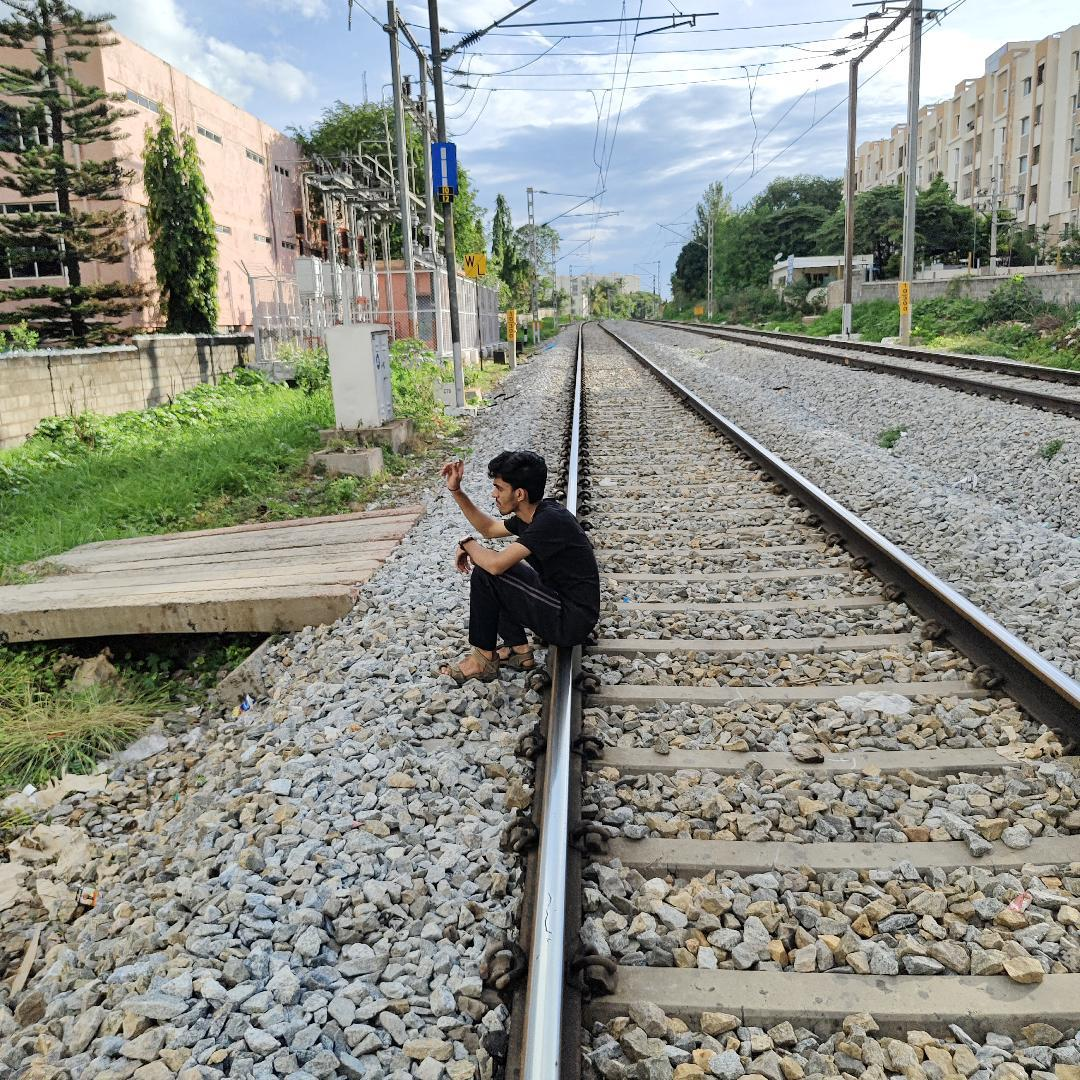sitting: (438, 432, 614, 678)
